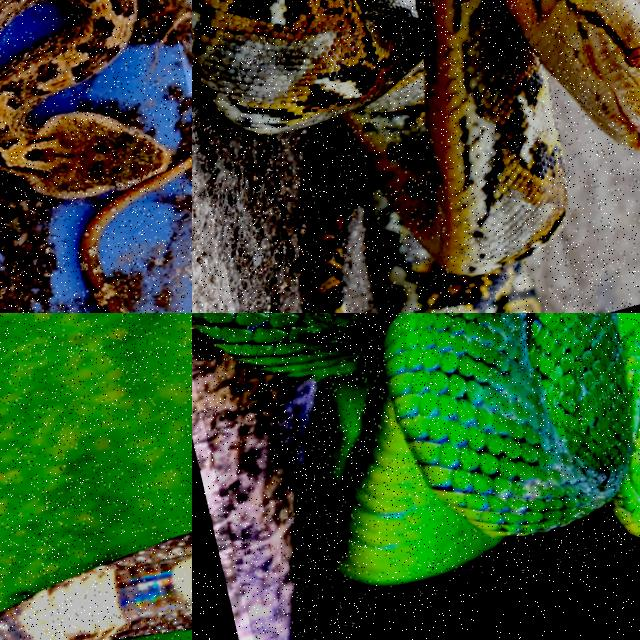Malayopython reticulatus: (192, 0, 639, 312)
Naja kaouthia: (0, 534, 191, 639)
Ovophis monticola: (0, 0, 191, 312)
Trimeresurus macrops: (192, 313, 639, 585)
